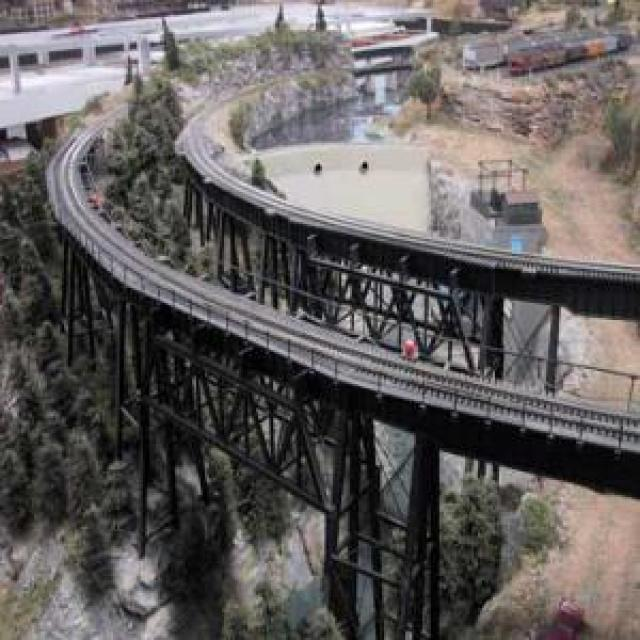danger: (394, 338, 427, 365)
rail: (49, 97, 640, 447), (175, 86, 640, 278)
